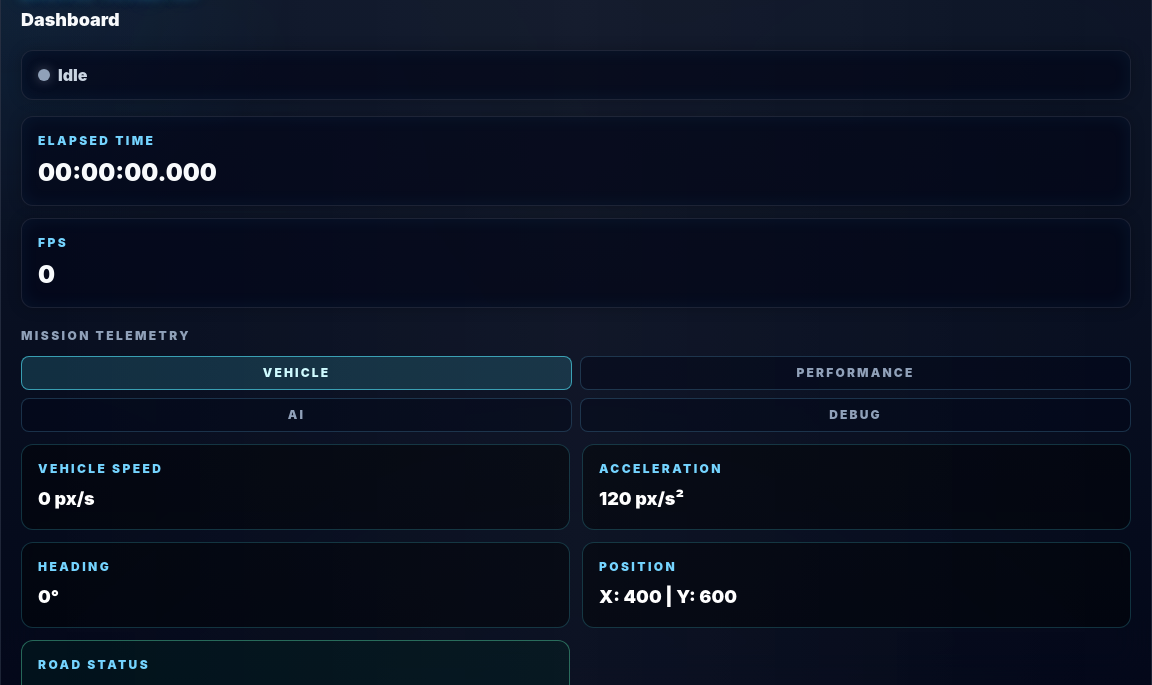
Scenario: DashboardPanel › renders AI telemetry and sensor debug panel in the AI tab
The image size is (1152, 685).
Click the tab "AI" at (296, 415), box [21,398,572,432]
(page scrolled)
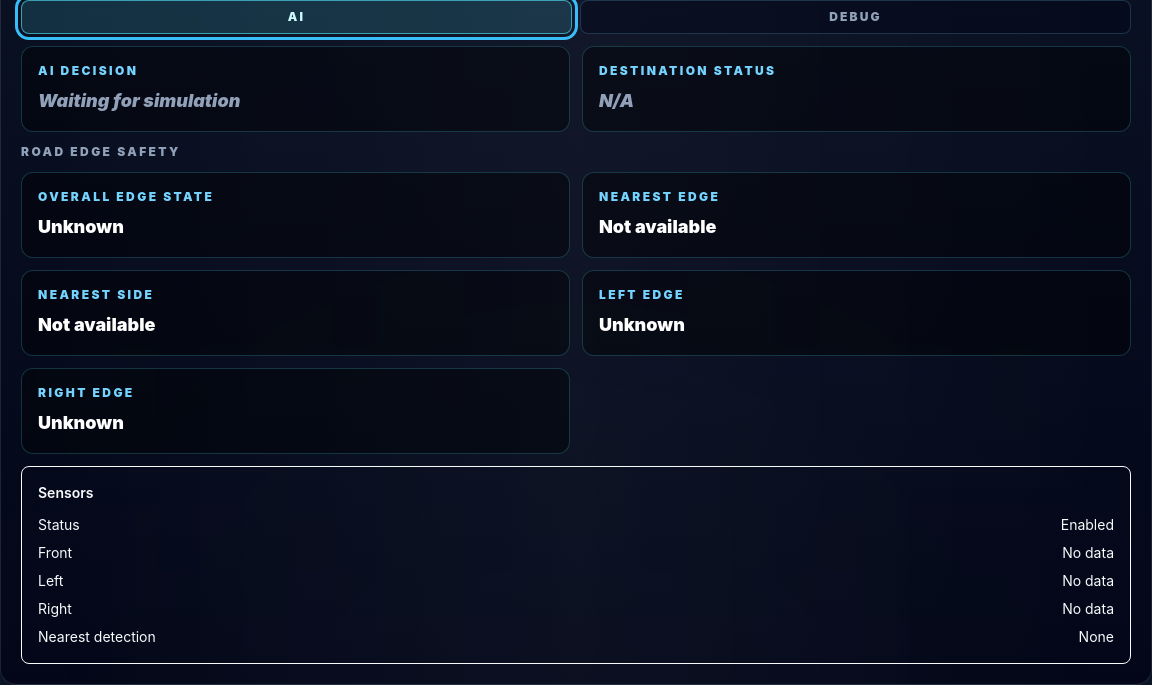
Expected: the text "AI Decision" is shown, [38,63,138,78]
Expected: the text "Destination Status" is shown, [599,63,776,78]
Expected: the heading "Sensors" is shown, [38,484,93,501]
